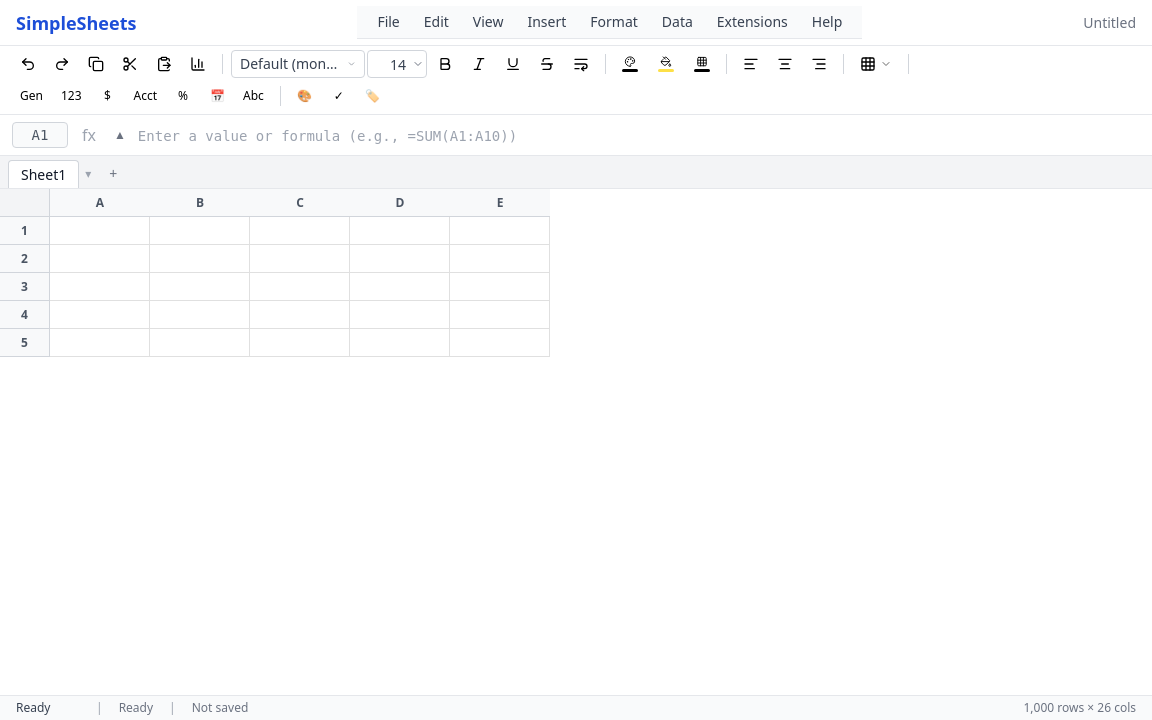
Test: App - External Clipboard Paste › pastes formatted text when "Paste Formatted Text" is chosen
Press the mouse on the 1st element with class "grid-cell" at (100, 231), box [50, 217, 150, 245]
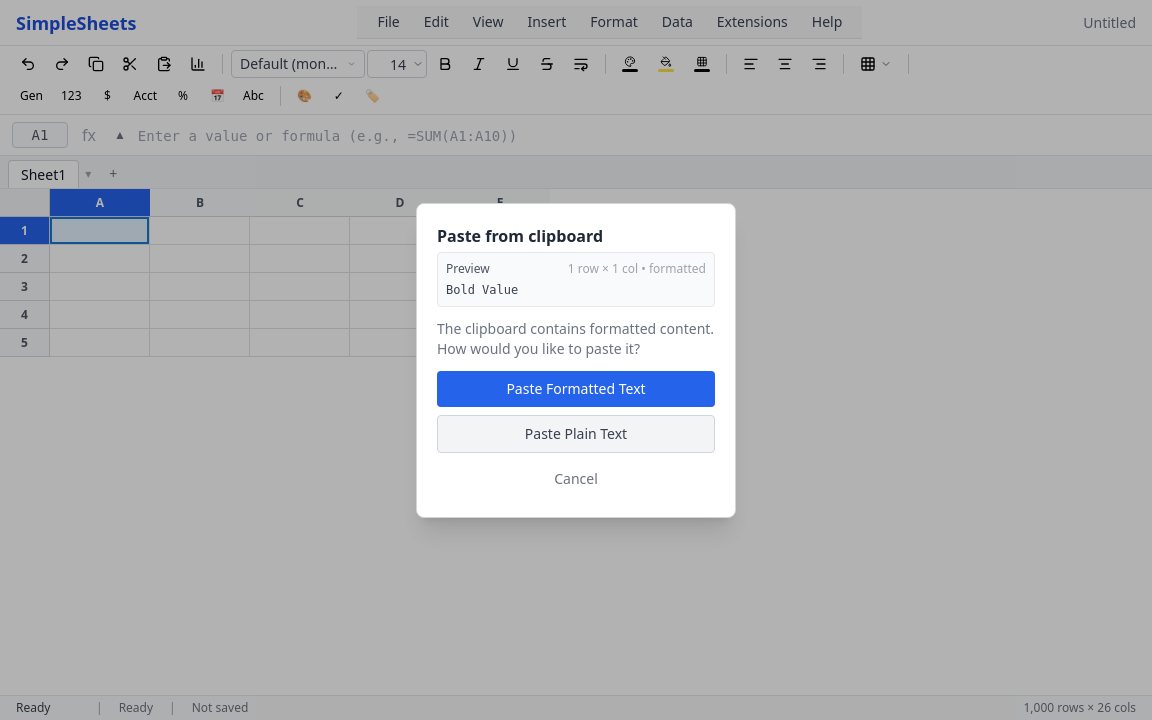
# Choose formatted paste
Click the button with test id "paste-formatted" at (576, 388), box [437, 370, 715, 406]
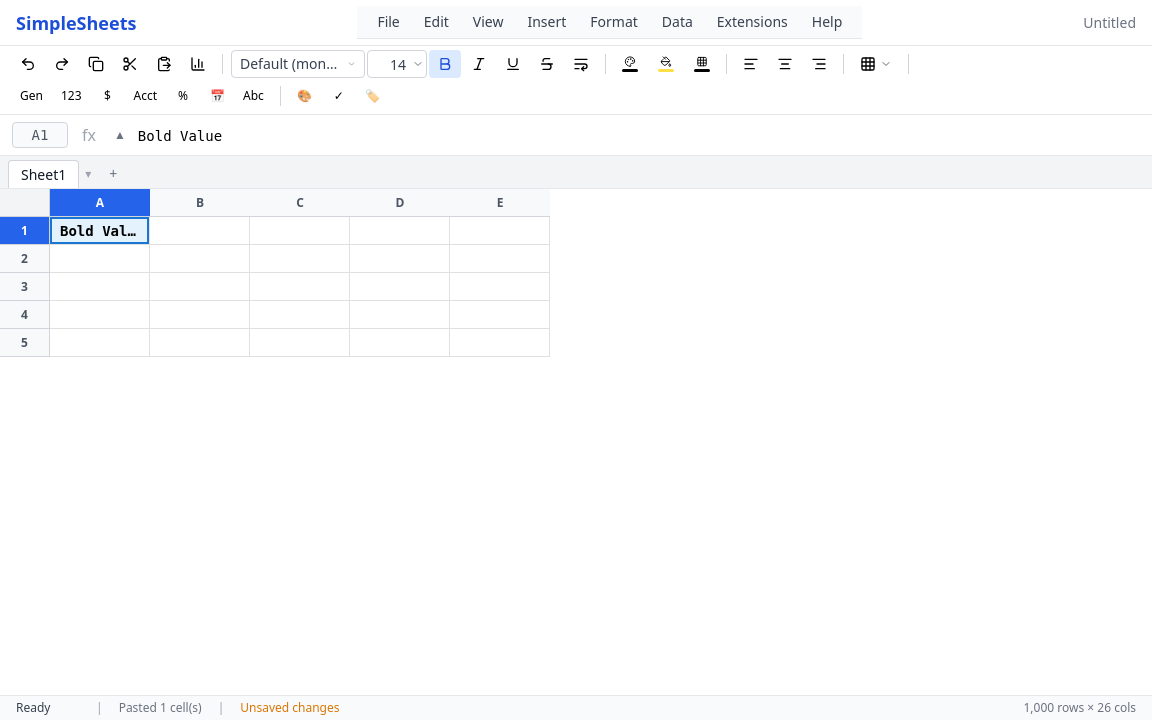
Now the heading "Paste from clipboard" is gone
Now the text with test id "status-message" shows "Pasted", box [119, 699, 202, 716]
